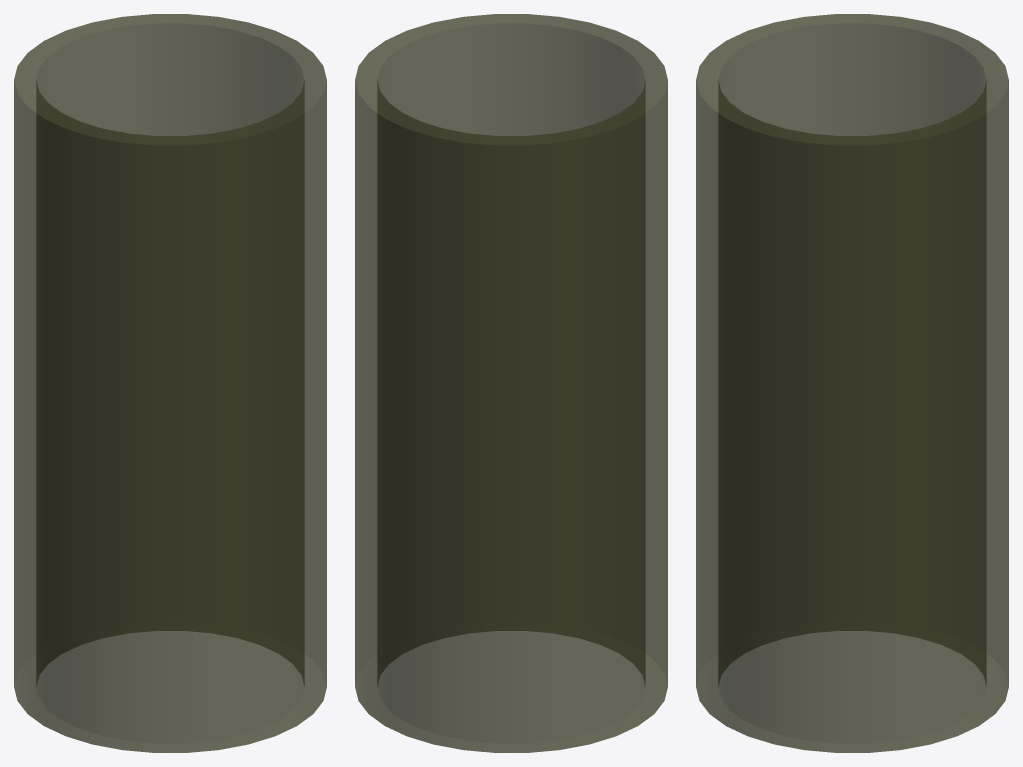
File: boli01.dae
3 views of the same model, side by side, from view 1: azimuth 30°, elevation 25°; view 2: azimuth 150°, elevation 25°; view 3: azimuth 270°, elevation 25° (orthographic).
Visible parts, largest first — view 1: Tube002; view 2: Tube002; view 3: Tube002.
Boxes of the visible parts, x1,y1,x2,y2 form: Tube002: (14,14,326,752); Tube002: (355,14,667,752); Tube002: (696,14,1008,752).
Bounding box in the file's own units: 13.92 × 14 × 30.
